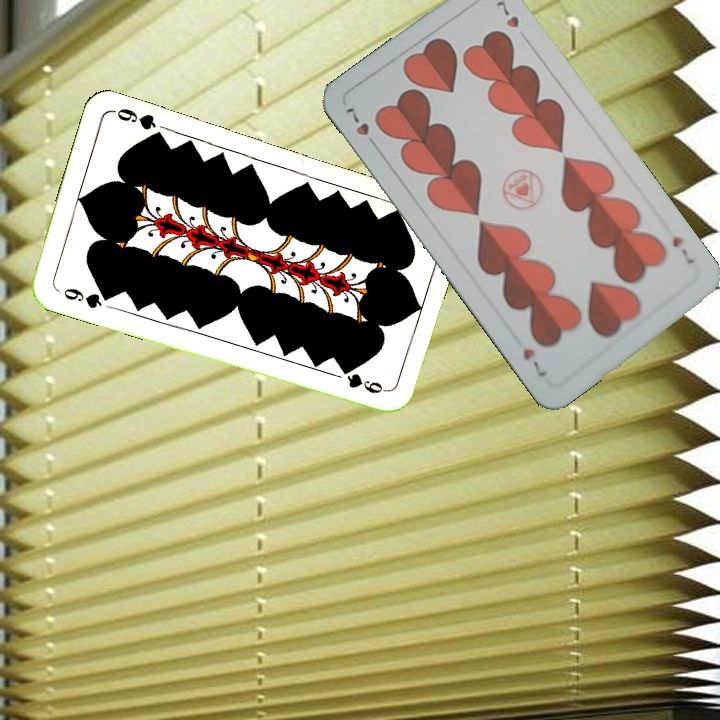G9: (59, 284, 113, 311)
H7: (341, 103, 381, 152), (668, 232, 698, 267)
